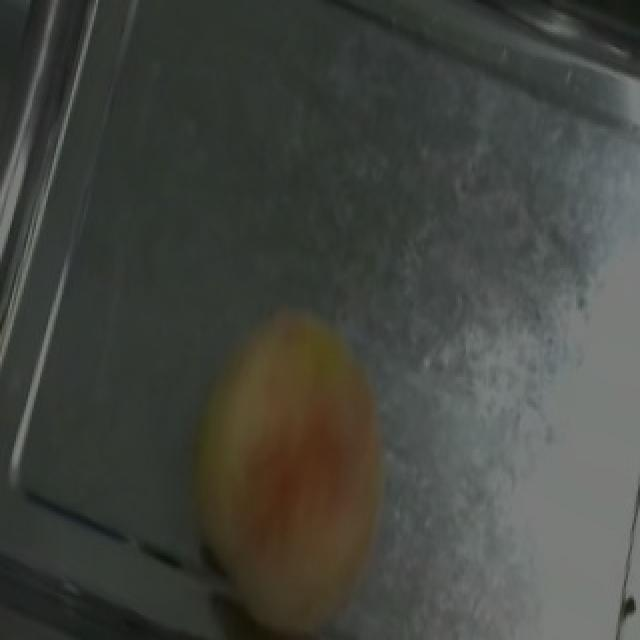Fruit: (138, 275, 430, 640)
